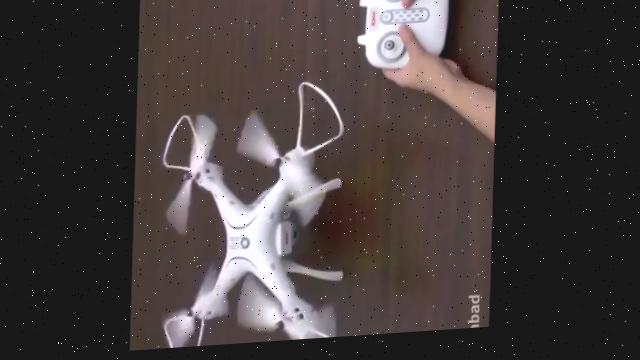drone: (155, 80, 358, 351)
